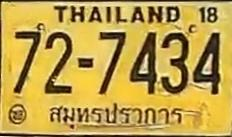2: (44, 31, 72, 93)
3: (161, 32, 188, 94)
4: (192, 31, 220, 94), (129, 31, 157, 93)
7: (13, 30, 41, 94), (98, 31, 126, 94)
SPK: (47, 99, 189, 132)
